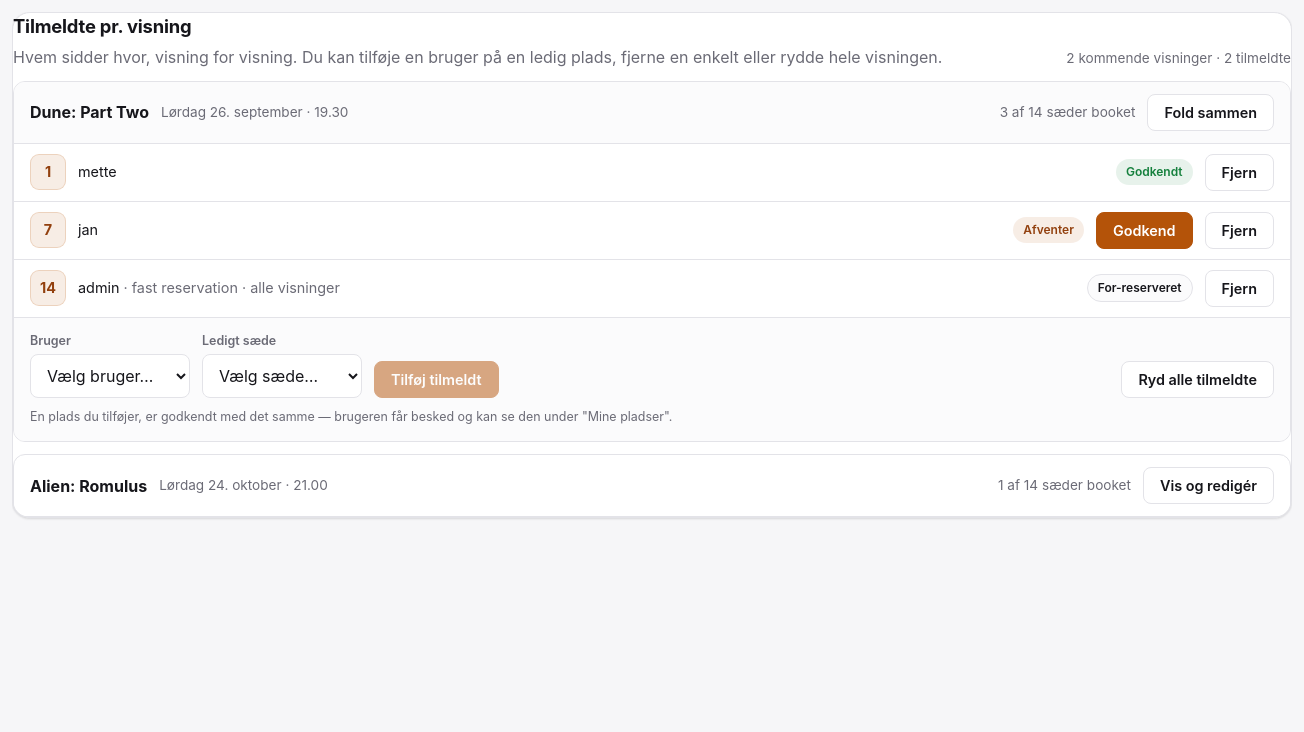
AttendeesAdmin (feature #227) › viser backendens fejltekst når tilføjelse afvises
Select "anna" in the dropdown labelled "Bruger" at (110, 376), box [30,354,190,398]
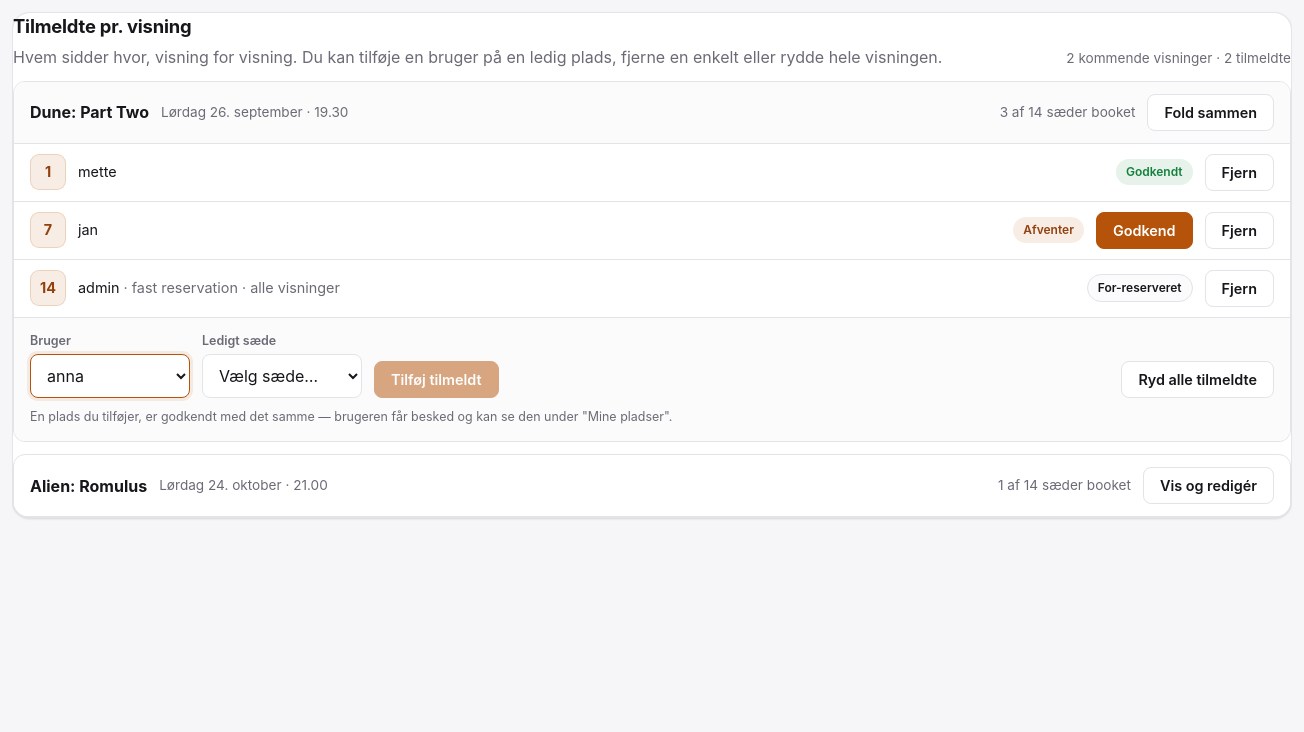
Select "Sæde 2" in the dropdown labelled "Ledigt sæde" at (282, 376), box [202,354,362,398]
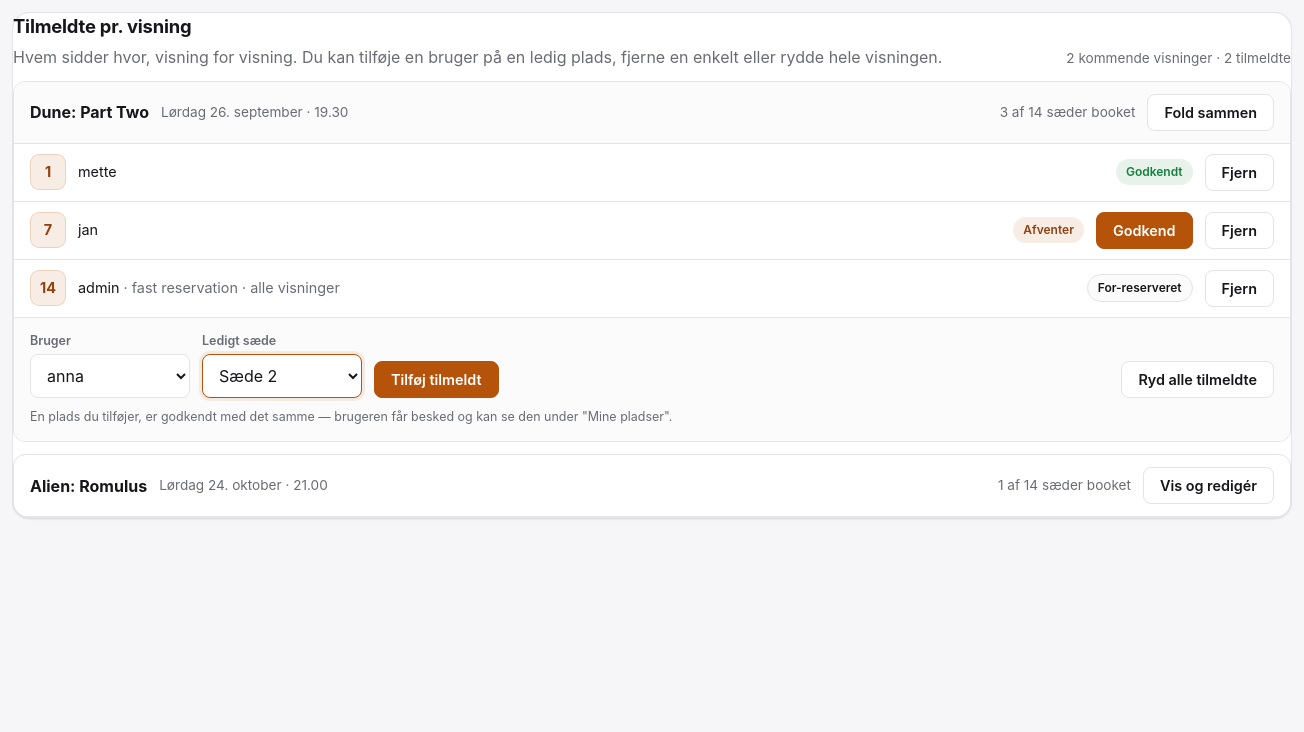
Click the button "Tilføj tilmeldt".
click(436, 380)  # box [374,361,499,398]
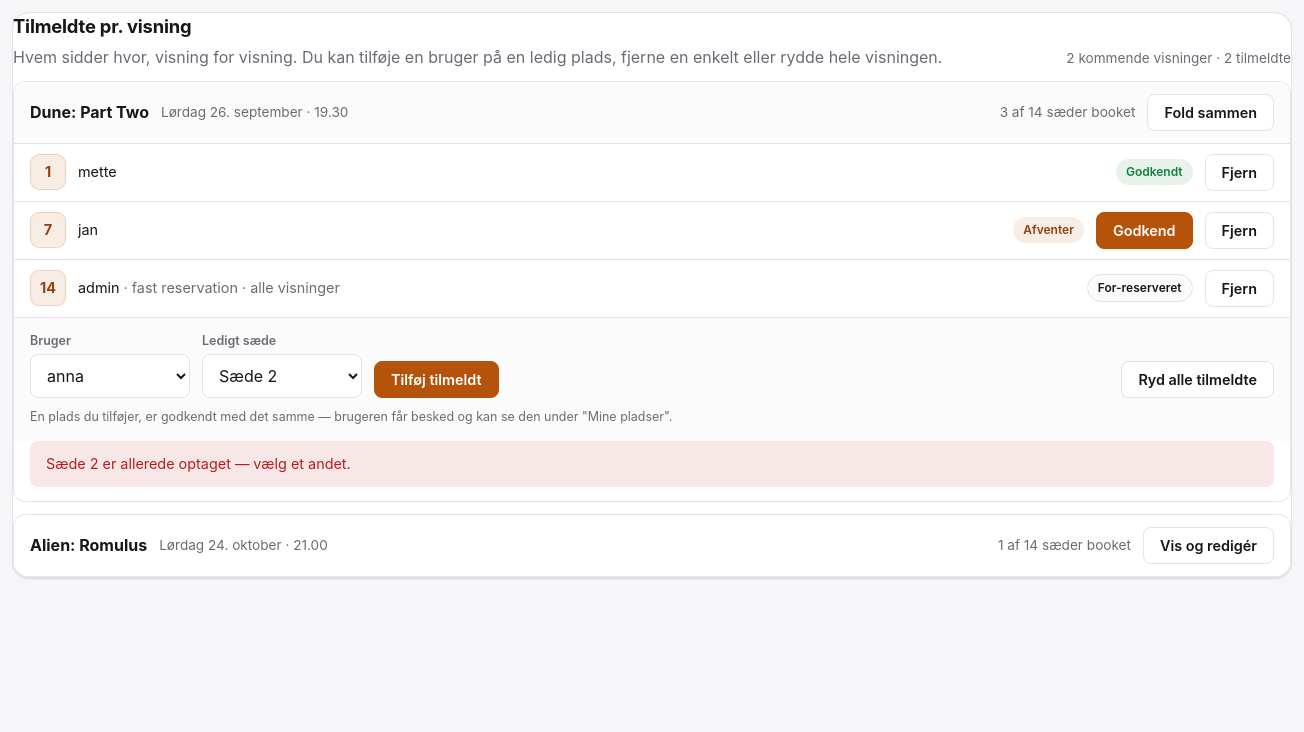
Expected: the text "Sæde 2 er allerede optaget — vælg et andet." is shown, [30,441,1274,487]
